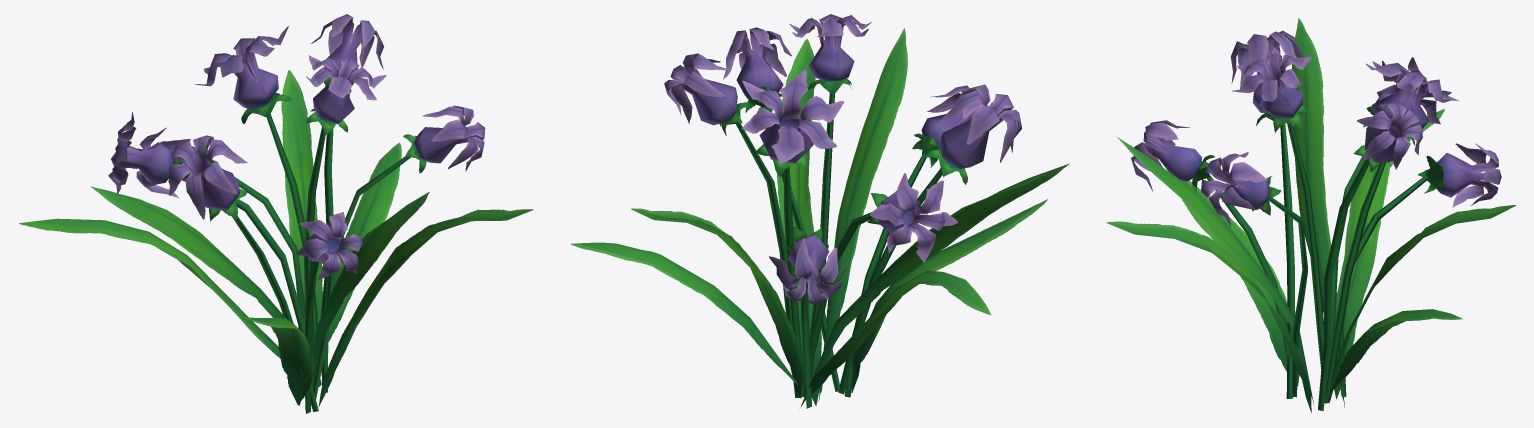
Rendered from MSH_FWOF_Flower_Large_B_02.fbx.
3 views of the same model, side by side, from view 1: azimuth 30°, elevation 25°; view 2: azimuth 150°, elevation 25°; view 3: azimuth 270°, elevation 25° (orthographic). The views are drawn at different scales.
Visible parts, largest first — view 1: MSH_FWOF_Flower_Large_B_02; view 2: MSH_FWOF_Flower_Large_B_02; view 3: MSH_FWOF_Flower_Large_B_02.
Part boxes in pixels (bbox=[...]): MSH_FWOF_Flower_Large_B_02: bbox=[19, 14, 533, 413]; MSH_FWOF_Flower_Large_B_02: bbox=[571, 14, 1069, 409]; MSH_FWOF_Flower_Large_B_02: bbox=[1106, 18, 1515, 412].
Size of the model in its own units: 1.27 by 1.09 by 1.16.
